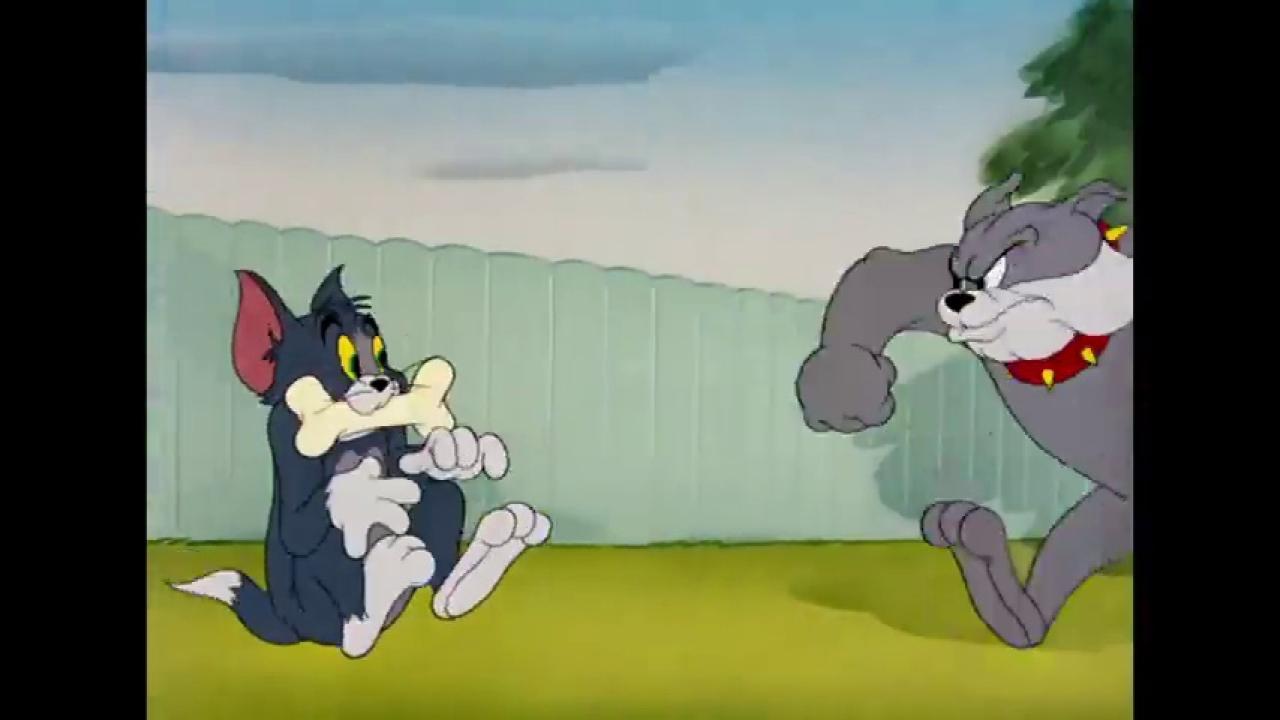Tom: (164, 263, 554, 659)
